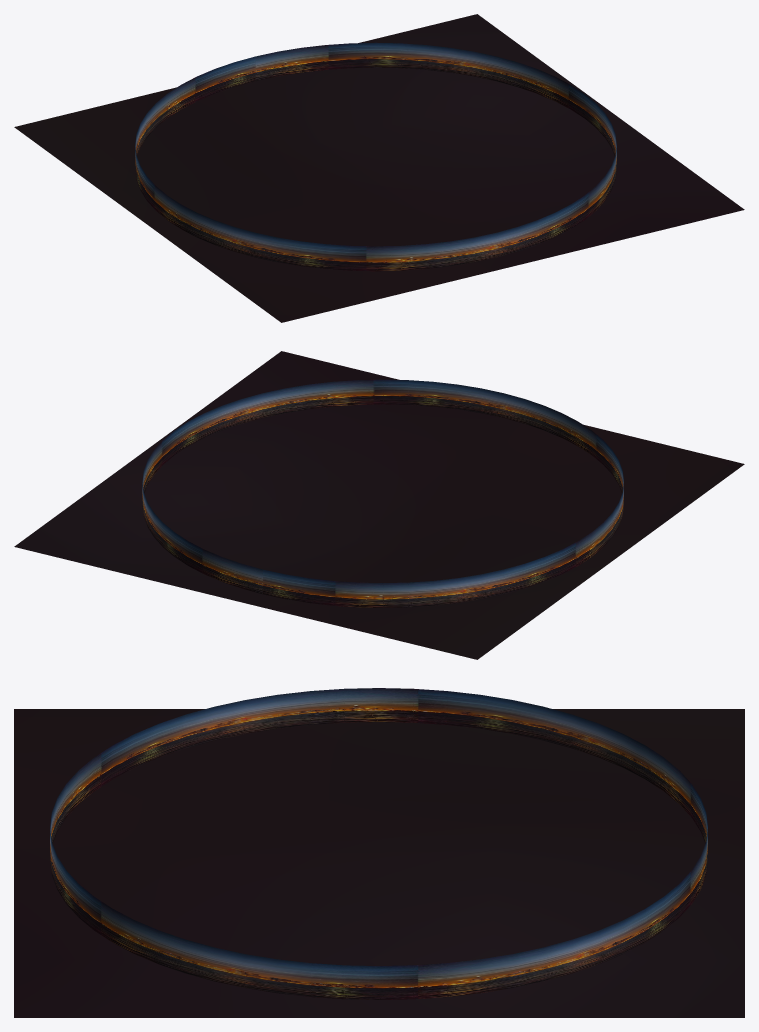
Rendered from SkyModel.FBX.
3 renders of one model, top to bottom at view 1: azimuth 30°, elevation 25°; view 2: azimuth 150°, elevation 25°; view 3: azimuth 270°, elevation 25°, orthographic. The views are drawn at different scales.
Parts seen in each view (by area): view 1: Skybox; view 2: Skybox; view 3: Skybox.
Part boxes in pixels (left/top/right/bottom): Skybox: left=14, top=14, right=744, bottom=322; Skybox: left=14, top=351, right=744, bottom=659; Skybox: left=14, top=688, right=744, bottom=1017.
Bounding box in the file's own units: 658 × 33.81 × 658.
1 material, 1 textured.
